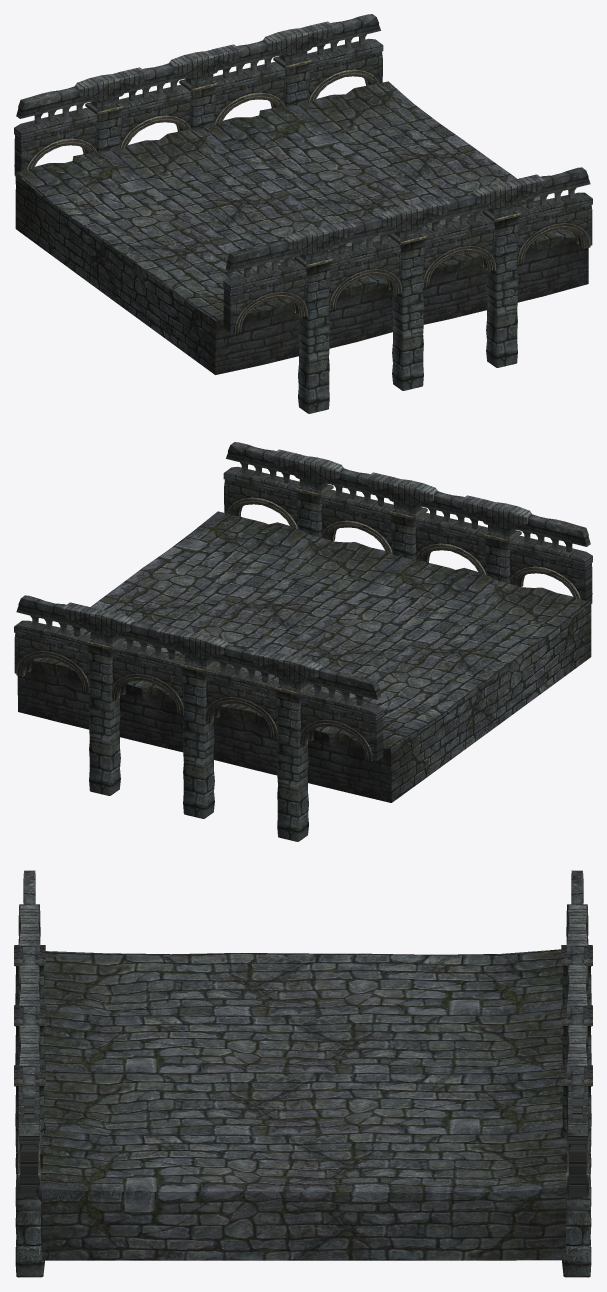
Rendered from Stone_Bridge1.fbx.
The picture shows the model from 3 angles, top to bottom: view 1: azimuth 30°, elevation 25°; view 2: azimuth 150°, elevation 25°; view 3: azimuth 270°, elevation 25°; orthographic projection. The views are drawn at different scales.
Visible parts, largest first — view 1: Stone_Bridge1; view 2: Stone_Bridge1; view 3: Stone_Bridge1.
Part boxes in pixels (<box>): Stone_Bridge1: <box>14,14,592,413</box>; Stone_Bridge1: <box>14,442,592,841</box>; Stone_Bridge1: <box>14,870,592,1277</box>.
Bounding box in the file's own units: 755 × 343 × 775.
Materials: 1 (1 with a texture image).
